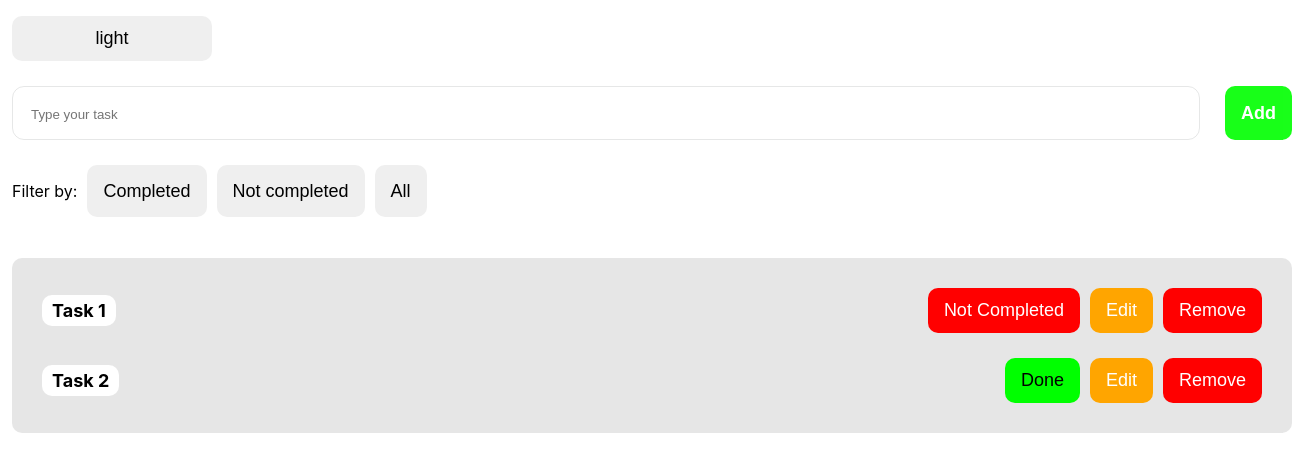
TodoList › renders filtered tasks
The width and height of the screenshot is (1304, 450).
Step 1. Click the button "Completed" → [147, 191], box [88,165,206,217]
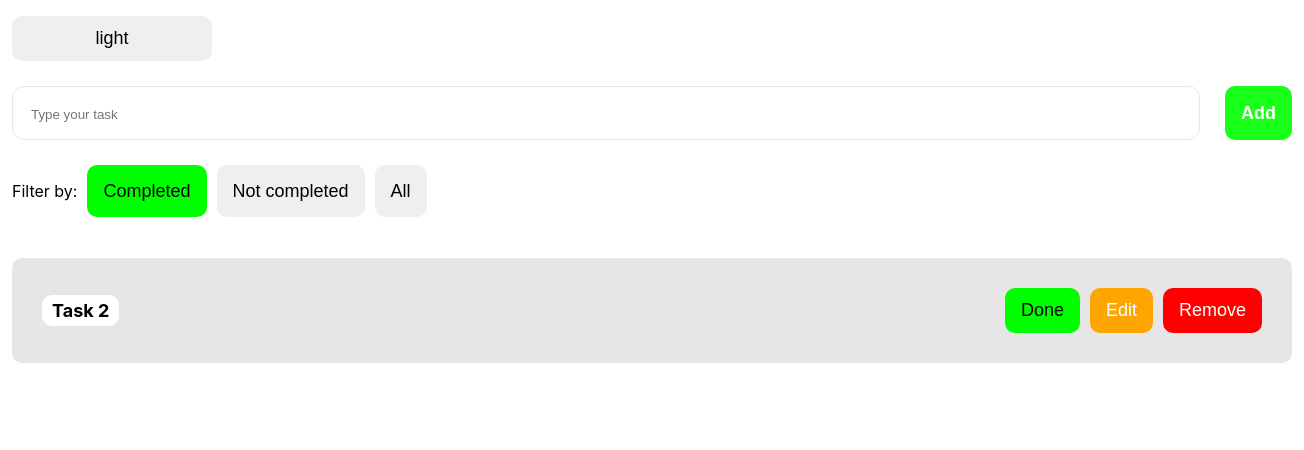
Check: the text "Task 2" is shown, box [42,295,119,326]
Check: the text "Task 1" is gone
